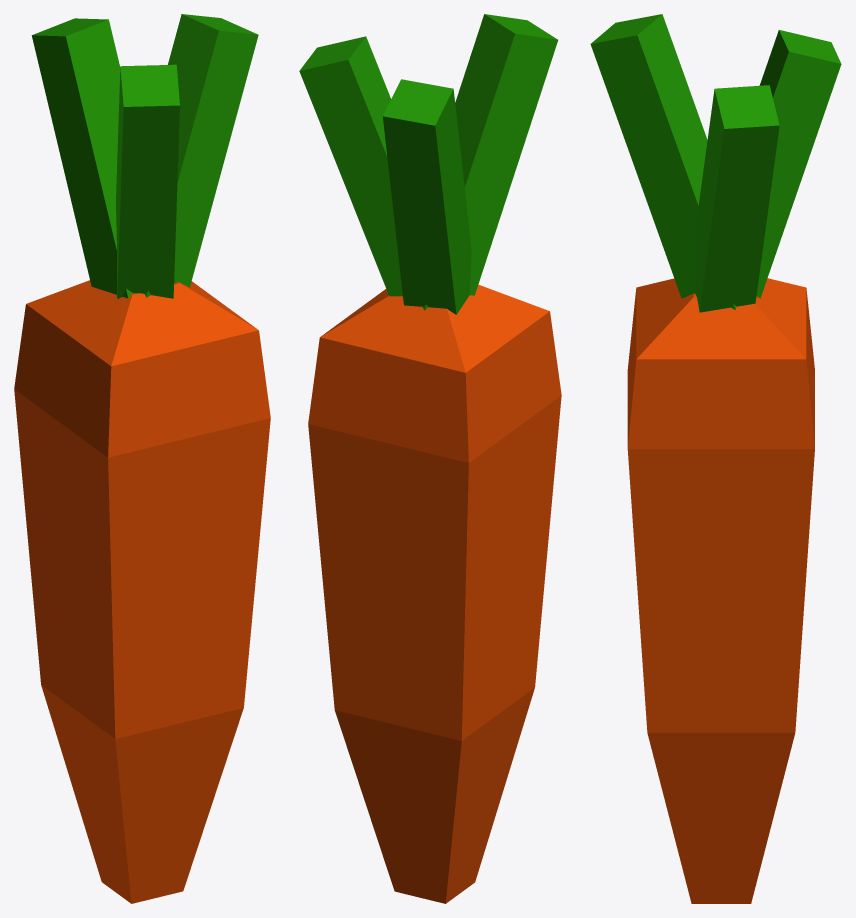
The model's file is carotte.glb.
The picture shows the model from 3 angles, left to right: view 1: azimuth 30°, elevation 25°; view 2: azimuth 150°, elevation 25°; view 3: azimuth 270°, elevation 25°; orthographic projection.
Visible parts, largest first — view 1: Carrote, Tige_Carrote, Tige_Carrote.001, Tige_Carrote.002; view 2: Carrote, Tige_Carrote, Tige_Carrote.001, Tige_Carrote.002; view 3: Carrote, Tige_Carrote.001, Tige_Carrote.002, Tige_Carrote.
Part boxes in pixels (x1,y1,x2,y2): Carrote: (14, 280, 270, 903); Tige_Carrote: (31, 18, 132, 298); Tige_Carrote.001: (116, 64, 179, 298); Tige_Carrote.002: (145, 14, 258, 297); Carrote: (308, 284, 561, 903); Tige_Carrote: (382, 79, 471, 314); Tige_Carrote.001: (422, 14, 558, 310); Tige_Carrote.002: (299, 36, 402, 296); Carrote: (627, 278, 814, 903); Tige_Carrote.001: (590, 14, 736, 309); Tige_Carrote.002: (695, 85, 779, 312); Tige_Carrote: (756, 30, 841, 298).
Size of the model in its own units: 1.68 by 6.89 by 1.84.
